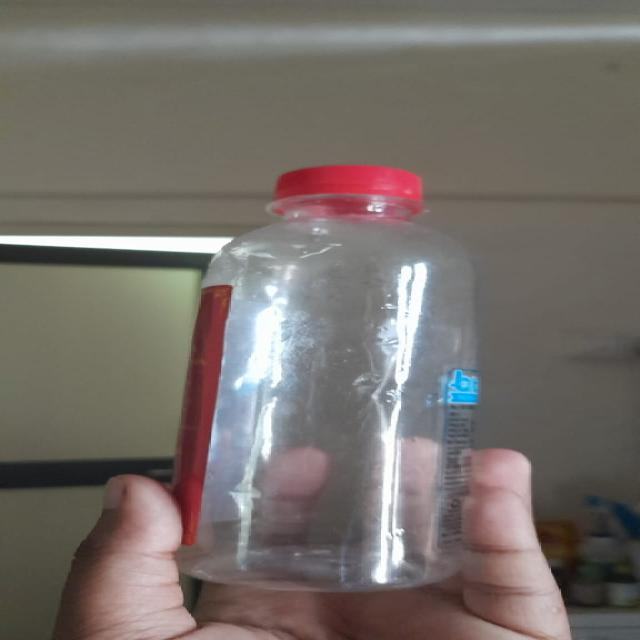Plastic - Recyclable: (169, 164, 483, 592)
